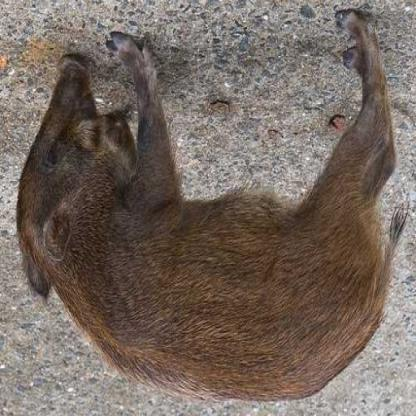boar: (5, 22, 404, 396)
